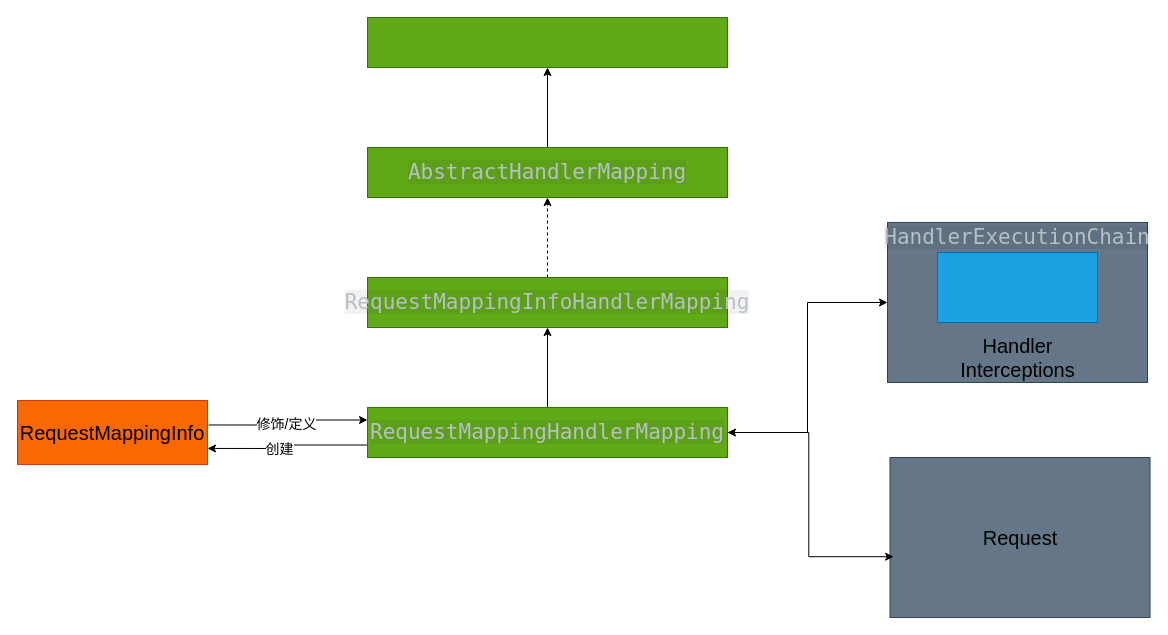
This 1168x635 diagram has some shape labels left out. The shapes that lost their labels are listed below. From the top down, each one's centre as x and y in pixels, then its label:
point (547, 42): HandlerMapping
point (1017, 287): Handler
